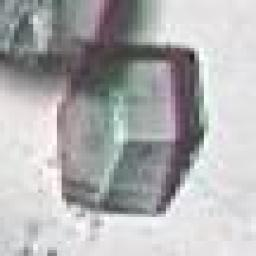crystals: (48, 44, 210, 218)
